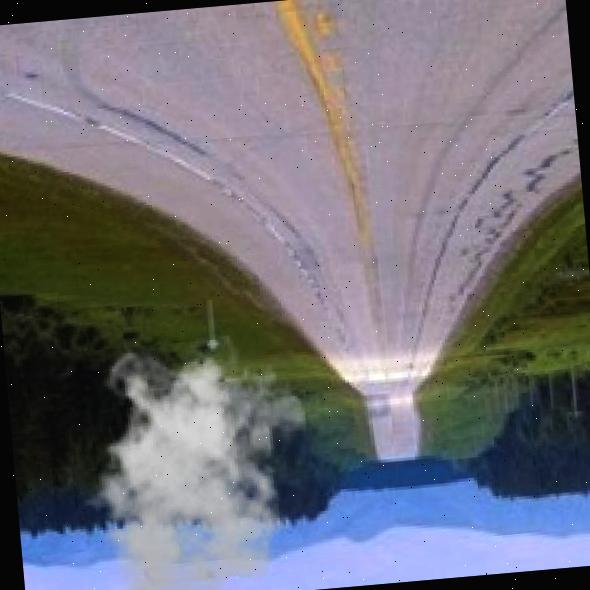smoke: (148, 367, 283, 585)
